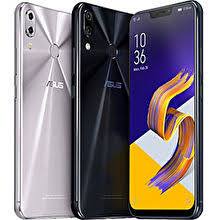asus: (127, 1, 207, 219), (13, 1, 73, 218), (71, 1, 131, 218)
